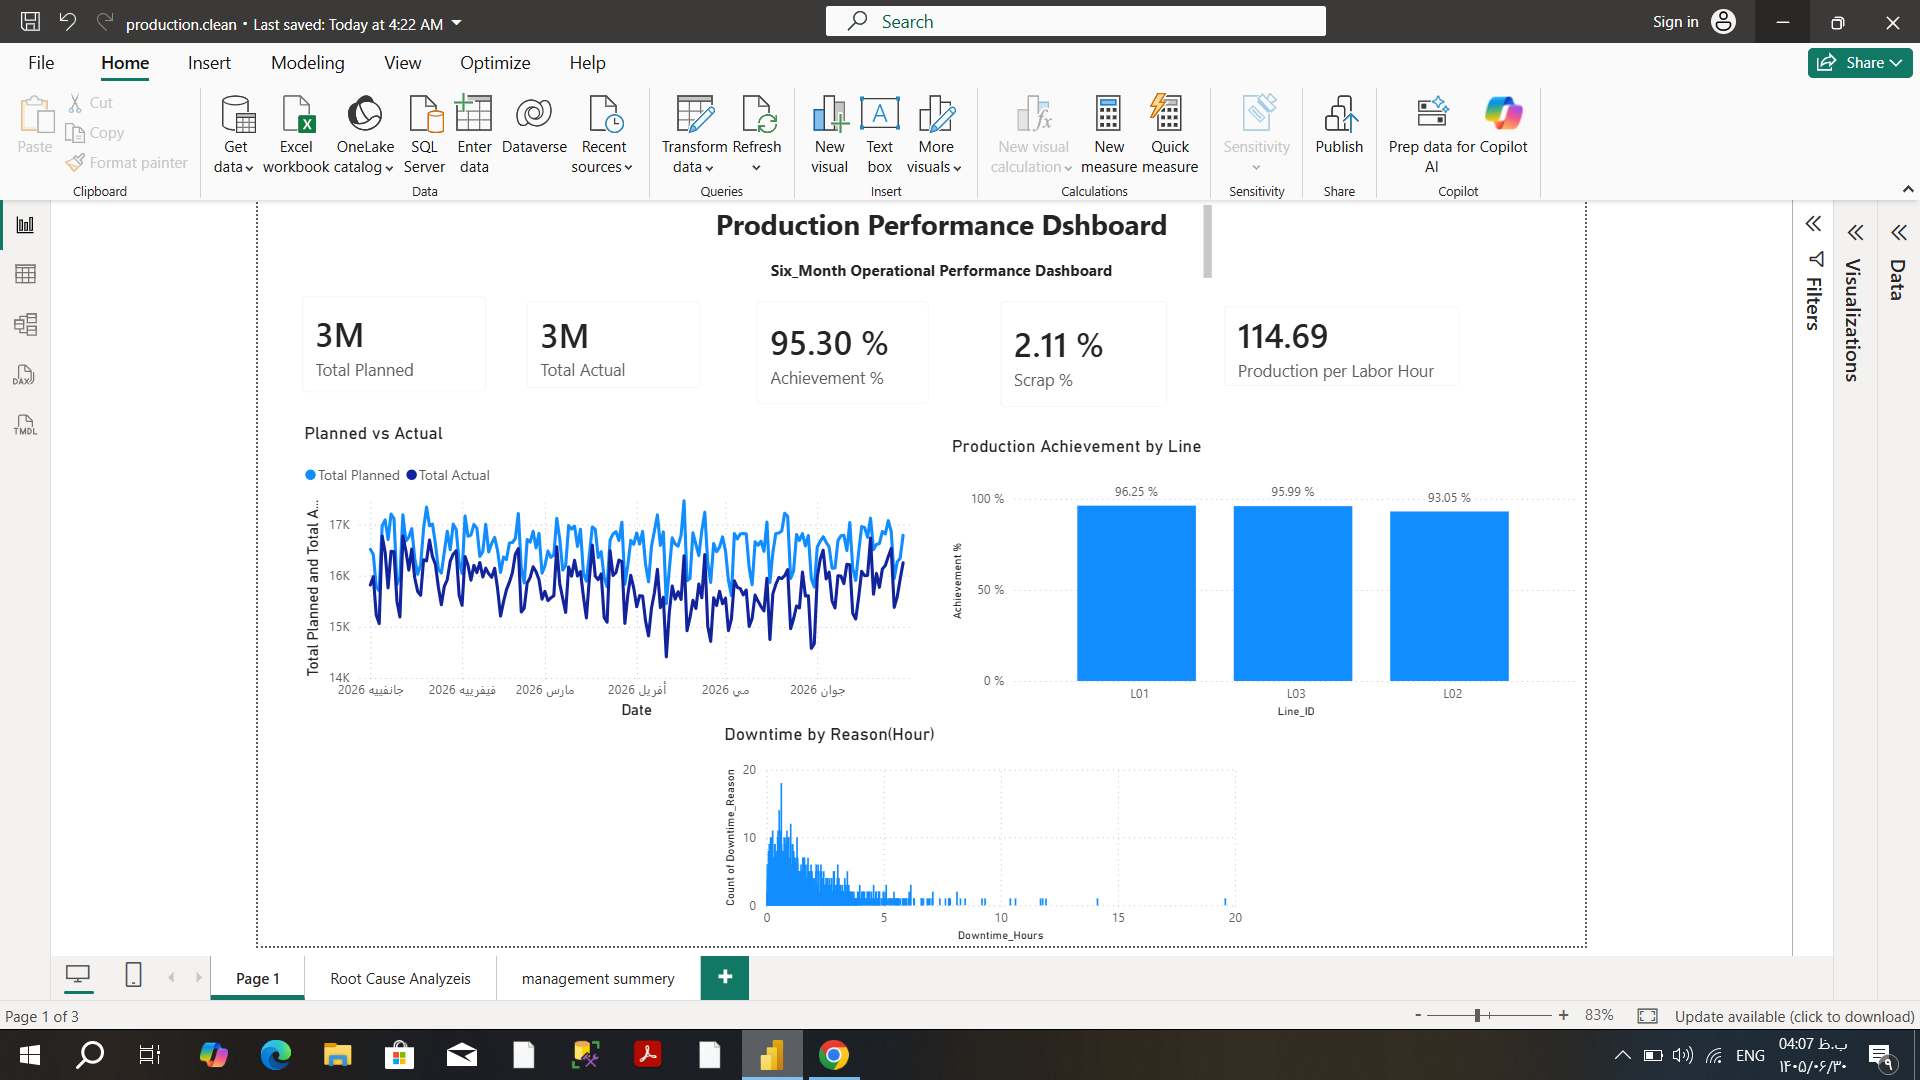

Layout of this report page (visuals, bound fields, positions):
{"tool":"powerbi","page":{"name":"Page 1","canvas":[1280,720],"ordinal":0},"visuals":[{"type":"cardVisual","fields":{"Data":["BOM.Total Planned"]},"box":[25,76.2,212.5,127.5],"z":0},{"type":"cardVisual","fields":{"Data":["BOM.Total Actual"]},"box":[242.5,81.2,202.5,118.8],"z":1000},{"type":"cardVisual","fields":{"Data":["Production.Achievement %"]},"box":[465,81.2,200,133.8],"z":2000},{"type":"cardVisual","fields":{"Data":["Production.Scrap %"]},"box":[700,81.2,195,136.2],"z":3000},{"type":"cardVisual","fields":{"Data":["Production.Production per Labor Hour"]},"box":[916.2,86.2,261.2,111.2],"z":4000},{"type":"lineChart","title":"Planned vs Actual","fields":{"Category":["DateTable.Date"],"Y":["BOM.Total Planned","BOM.Total Actual"]},"box":[40,215,615,290],"z":5000},{"type":"clusteredColumnChart","title":"Production Achievement by Line","fields":{"Category":["Lines.Line_ID"],"Y":["Production.Achievement %"]},"box":[664.4,227.2,614.4,277.2],"z":6000},{"type":"clusteredColumnChart","title":"Downtime by Reason(Hour)","fields":{"Y":["CountNonNull(Downtime.Downtime_Reason)"],"Category":["Downtime.Downtime_Hours"]},"box":[445,505,510,215],"z":7000},{"type":"textbox","box":[402.9,0,522.5,90],"z":8000}]}

Visuals, with their boxes on the page's 1280x720 design canvas (x1, y1, x2, y2). These are canvas units, not pixel positions in the 1920x1080 screenshot, which may show the page scaled, cropped or inside an application window:
cardVisual - BOM.Total Planned: (left=25, top=76, right=238, bottom=204)
cardVisual - BOM.Total Actual: (left=242, top=81, right=445, bottom=200)
cardVisual - Production.Achievement %: (left=465, top=81, right=665, bottom=215)
cardVisual - Production.Scrap %: (left=700, top=81, right=895, bottom=217)
cardVisual - Production.Production per Labor Hour: (left=916, top=86, right=1177, bottom=197)
"Planned vs Actual" lineChart: (left=40, top=215, right=655, bottom=505)
"Production Achievement by Line" clusteredColumnChart: (left=664, top=227, right=1279, bottom=504)
"Downtime by Reason(Hour)" clusteredColumnChart: (left=445, top=505, right=955, bottom=720)
textbox: (left=403, top=0, right=925, bottom=90)
